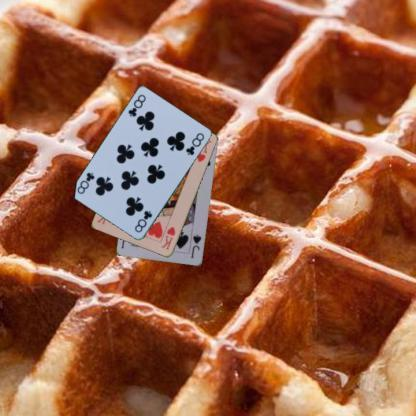8c: (132, 208, 154, 234), (126, 92, 148, 118)
Js: (186, 228, 202, 260)
Kh: (158, 224, 177, 252)
